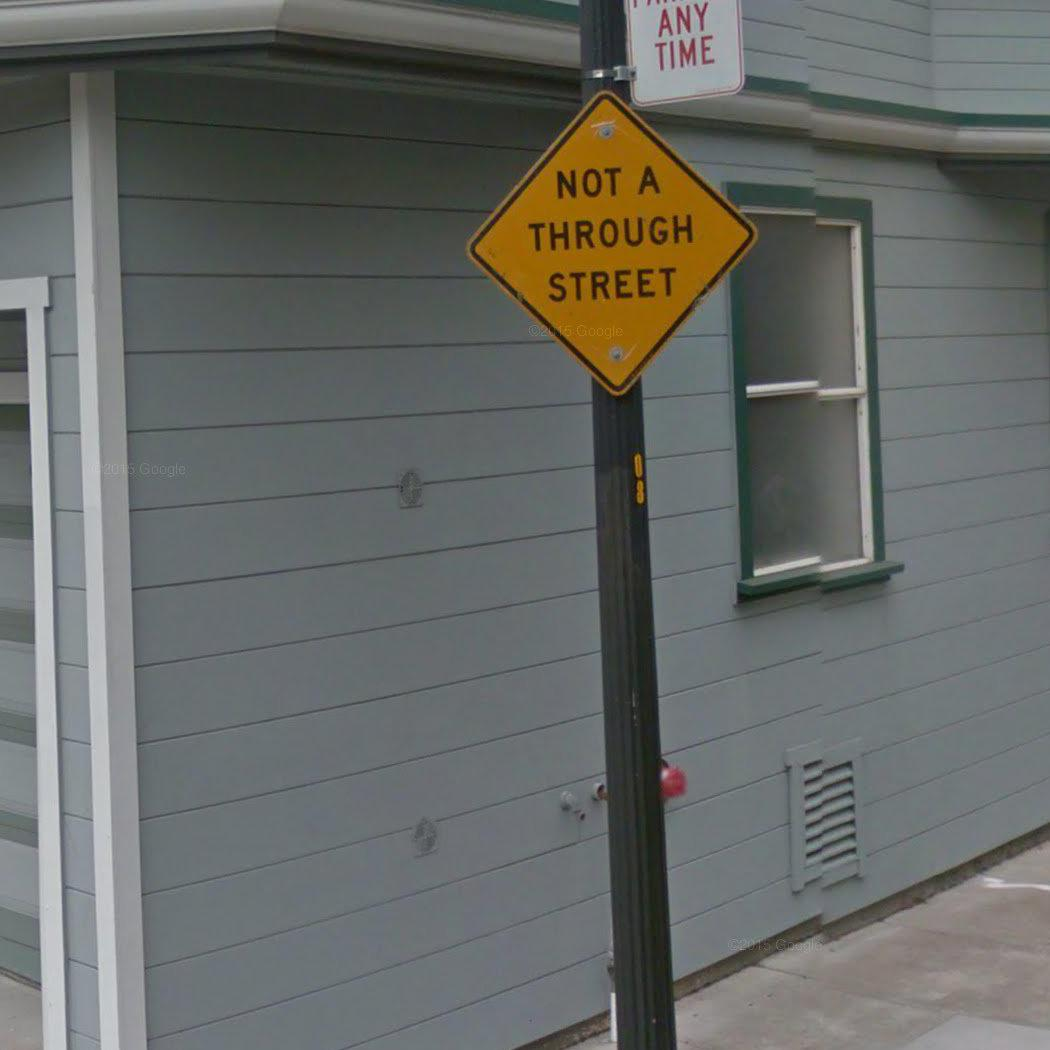No Parking Anytime: (622, 0, 743, 111)
